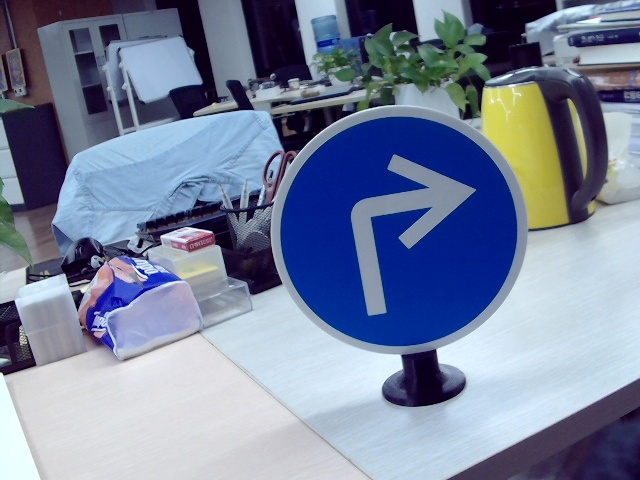turn_right: (346, 151, 478, 316)
